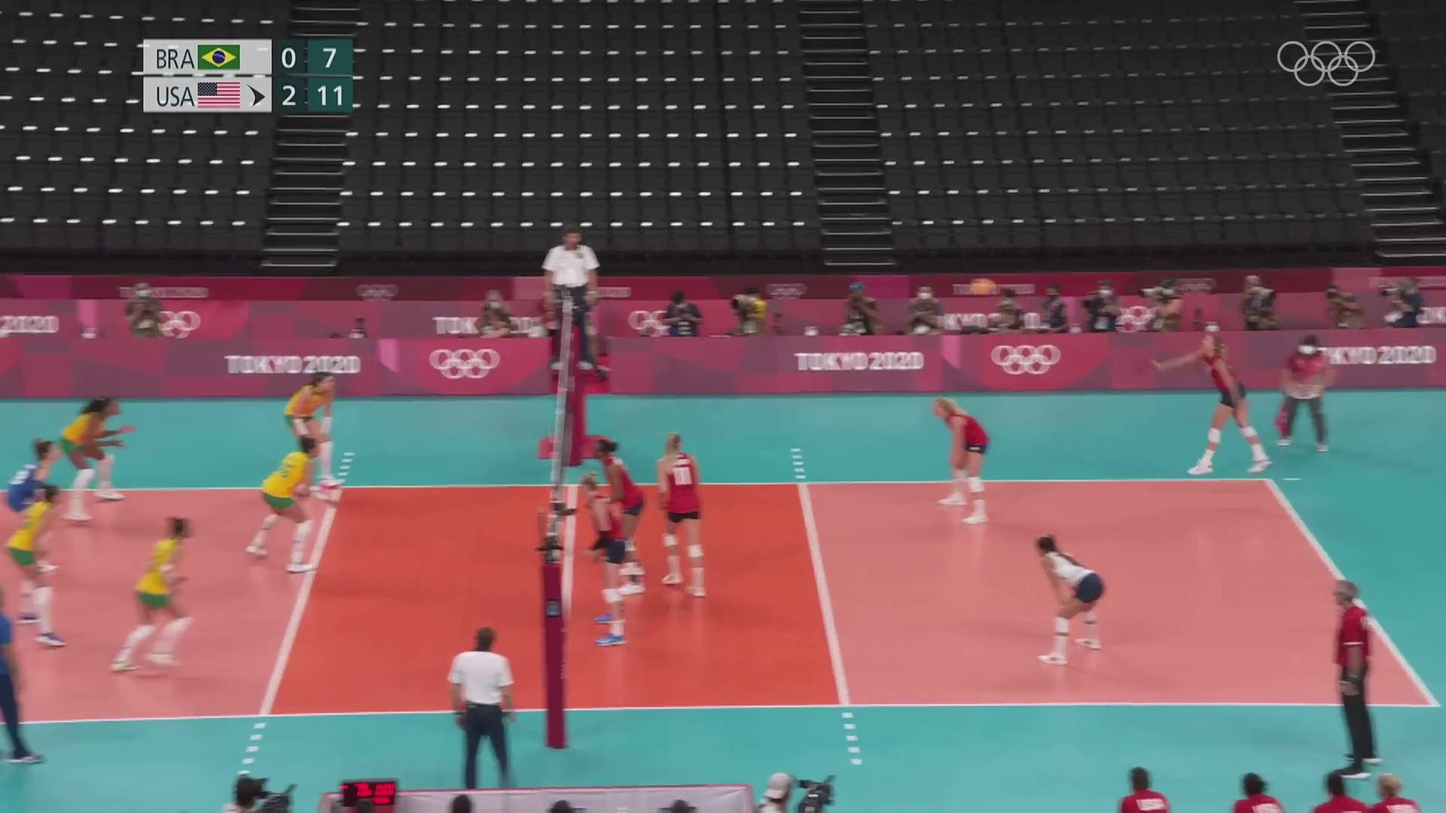player: (1154, 330, 1273, 473), (115, 515, 200, 672), (0, 488, 72, 648), (246, 437, 325, 575), (0, 436, 71, 575), (59, 397, 138, 521), (1032, 535, 1109, 659), (589, 438, 648, 599), (580, 476, 631, 650), (655, 433, 706, 596), (933, 399, 994, 522), (286, 372, 344, 490)
refree: (442, 632, 524, 784), (542, 231, 604, 375), (1279, 333, 1336, 455)
